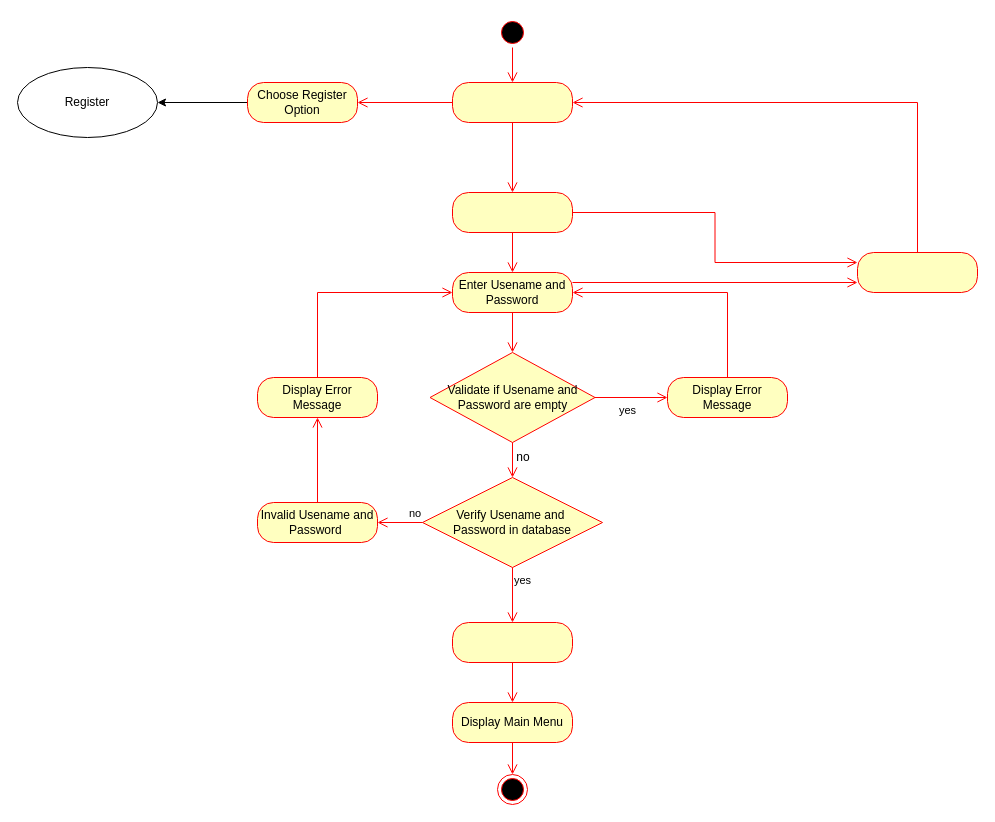
Some shapes in this 995 by 822 pixel diagram are drawn without their labels. Here are the shapes that lost their labels. From the top down, the centre of each, then its label:
At [512,102]: "Open the Main menu".
At [512,212]: "Choose Login Option".
At [917,272]: "Choose Cancel Option".
At [512,642]: "User Login Successfully".
